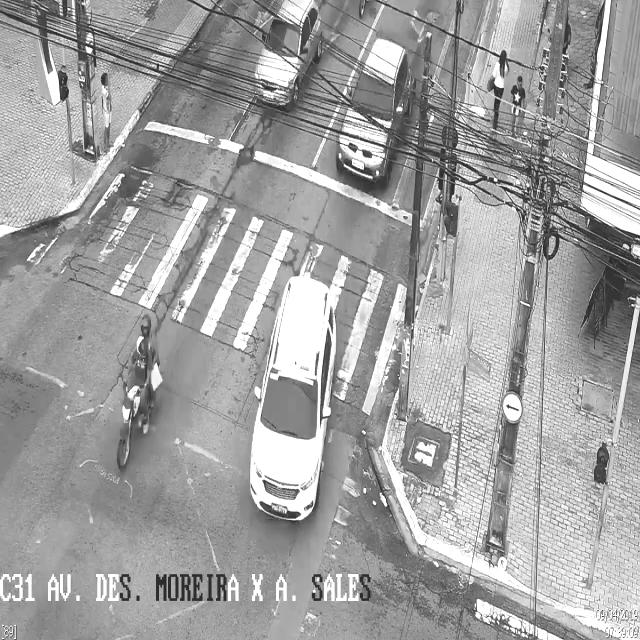Car: (248, 277, 336, 523), (337, 39, 413, 186), (252, 2, 322, 108)
Motorcycle: (115, 314, 163, 469)
